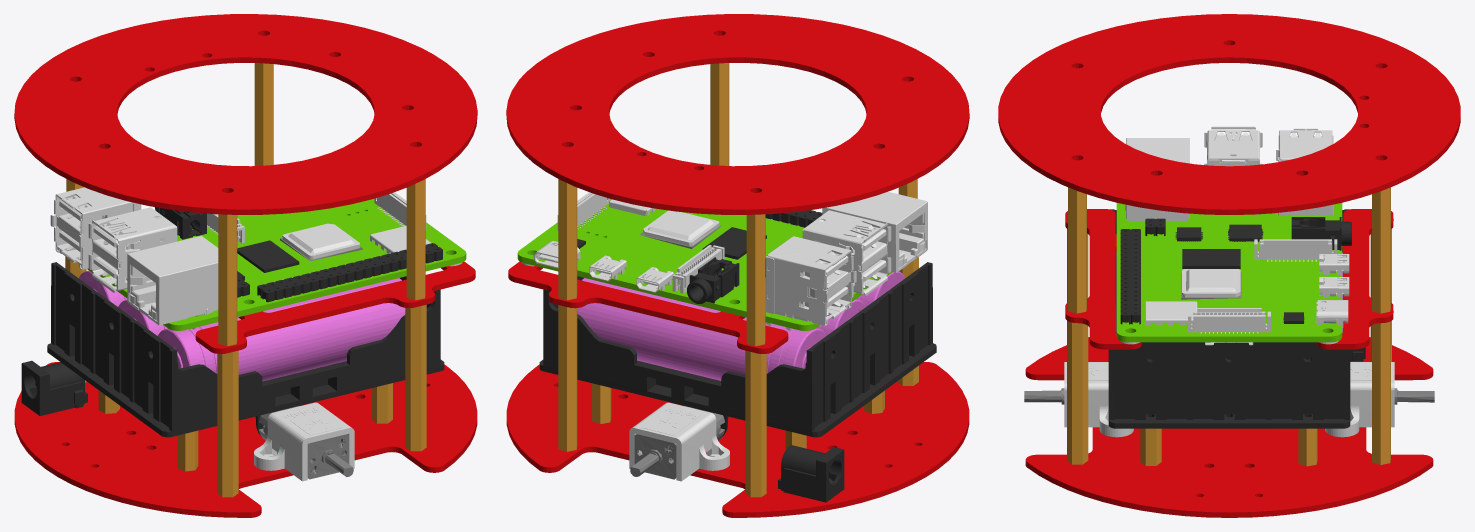
The model's file is nano_atom_chassis.dae.
The picture shows the model from 3 angles, left to right: view 1: azimuth 30°, elevation 25°; view 2: azimuth 150°, elevation 25°; view 3: azimuth 270°, elevation 25°; orthographic projection.
Parts seen in each view (by area): view 1: Nano Atom Rev3 2.140, Nano Atom Rev3 2.105, Nano Atom Rev3 2.128, Nano Atom Rev3 2.067, Nano Atom Rev3 2.137, Nano Atom Rev3 2.070, Nano Atom Rev3 2.011, Nano Atom Rev3 2.066, Nano Atom Rev3 2.005, Nano Atom Rev3 2.093, Nano Atom Rev3 2.024, Nano Atom Rev3 2.013 (+14 smaller); view 2: Nano Atom Rev3 2.140, Nano Atom Rev3 2.105, Nano Atom Rev3 2.128, Nano Atom Rev3 2.067, Nano Atom Rev3 2.135, Nano Atom Rev3 2.093, Nano Atom Rev3 2.008, Nano Atom Rev3 2.147, Nano Atom Rev3 2.066, Nano Atom Rev3 2.070, Nano Atom Rev3 2.014, Nano Atom Rev3 2.104 (+17 smaller); view 3: Nano Atom Rev3 2.140, Nano Atom Rev3 2.105, Nano Atom Rev3 2.128, Nano Atom Rev3 2.067, Nano Atom Rev3 2.011, Nano Atom Rev3 2.008, Nano Atom Rev3 2.012, Nano Atom Rev3 2.097, Nano Atom Rev3 2.096, Nano Atom Rev3 2.016, Nano Atom Rev3 2.066, Nano Atom Rev3 2.071 (+17 smaller).
Boxes of the visible parts, left/top/right/bottom form: Nano Atom Rev3 2.140: left=14, top=14, right=477, bottom=214; Nano Atom Rev3 2.105: left=14, top=362, right=477, bottom=517; Nano Atom Rev3 2.128: left=47, top=262, right=444, bottom=437; Nano Atom Rev3 2.067: left=87, top=199, right=466, bottom=330; Nano Atom Rev3 2.137: left=158, top=278, right=405, bottom=381; Nano Atom Rev3 2.070: left=127, top=235, right=218, bottom=329; Nano Atom Rev3 2.011: left=195, top=261, right=475, bottom=353; Nano Atom Rev3 2.066: left=88, top=207, right=177, bottom=292; Nano Atom Rev3 2.005: left=254, top=402, right=354, bottom=481; Nano Atom Rev3 2.093: left=50, top=187, right=141, bottom=269; Nano Atom Rev3 2.024: left=257, top=243, right=442, bottom=302; Nano Atom Rev3 2.013: left=217, top=350, right=238, bottom=497; Nano Atom Rev3 2.140: left=506, top=14, right=969, bottom=214; Nano Atom Rev3 2.105: left=506, top=362, right=969, bottom=517; Nano Atom Rev3 2.128: left=539, top=262, right=936, bottom=437; Nano Atom Rev3 2.067: left=517, top=199, right=892, bottom=330; Nano Atom Rev3 2.135: left=577, top=278, right=826, bottom=380; Nano Atom Rev3 2.093: left=766, top=236, right=856, bottom=330; Nano Atom Rev3 2.008: left=508, top=261, right=788, bottom=353; Nano Atom Rev3 2.147: left=629, top=402, right=729, bottom=481; Nano Atom Rev3 2.066: left=802, top=210, right=891, bottom=295; Nano Atom Rev3 2.070: left=822, top=191, right=927, bottom=272; Nano Atom Rev3 2.014: left=745, top=350, right=766, bottom=497; Nano Atom Rev3 2.104: left=778, top=445, right=844, bottom=502; Nano Atom Rev3 2.140: left=998, top=14, right=1460, bottom=214; Nano Atom Rev3 2.105: left=1025, top=337, right=1433, bottom=517; Nano Atom Rev3 2.128: left=1108, top=209, right=1350, bottom=428; Nano Atom Rev3 2.067: left=1116, top=203, right=1342, bottom=342; Nano Atom Rev3 2.011: left=1065, top=209, right=1141, bottom=349; Nano Atom Rev3 2.008: left=1317, top=209, right=1393, bottom=349; Nano Atom Rev3 2.012: left=1067, top=321, right=1088, bottom=464; Nano Atom Rev3 2.097: left=1372, top=321, right=1390, bottom=464; Nano Atom Rev3 2.096: left=1068, top=187, right=1086, bottom=313; Nano Atom Rev3 2.016: left=1372, top=187, right=1390, bottom=313; Nano Atom Rev3 2.066: left=1204, top=126, right=1262, bottom=214; Nano Atom Rev3 2.071: left=1188, top=308, right=1270, bottom=333.
Bounding box in the file's own units: 0.115 × 0.1149 × 0.087.
